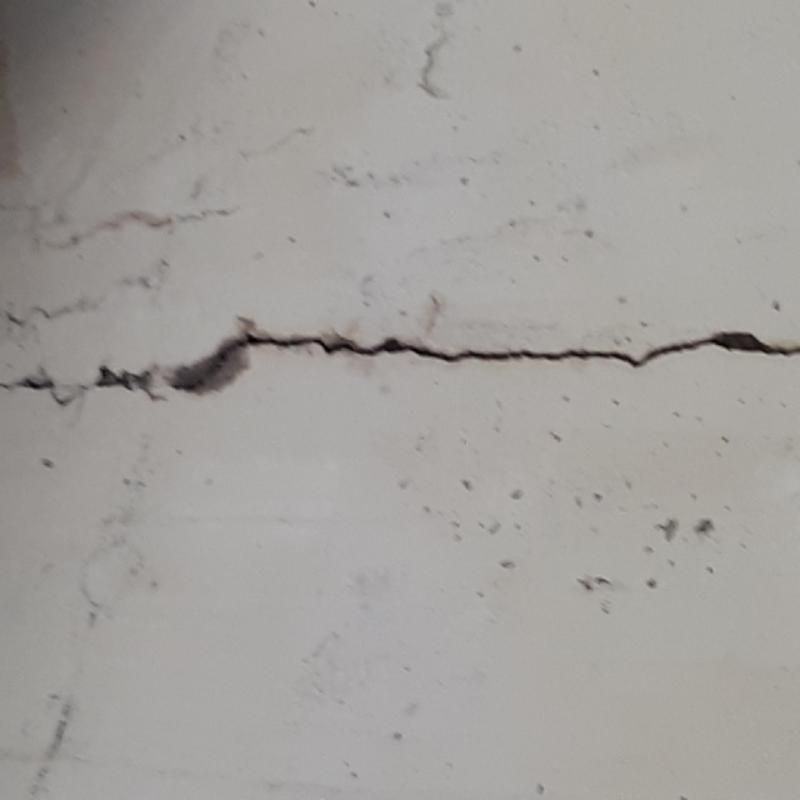pothole: (3, 320, 799, 422)
